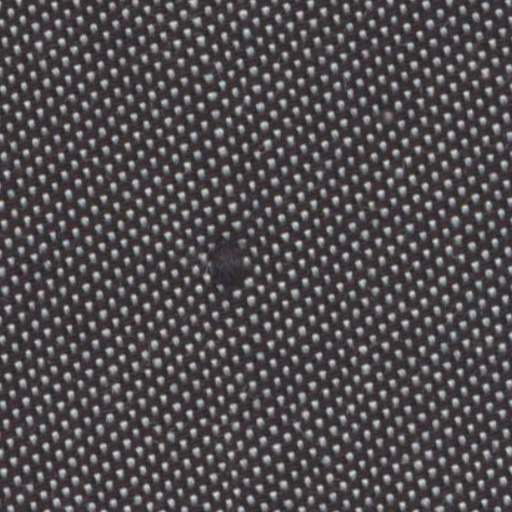MianQiu: (197, 218, 264, 306)
